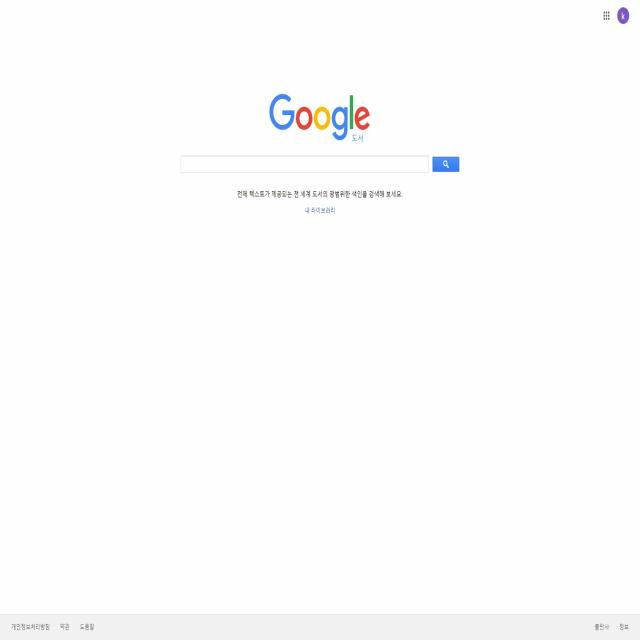menu-bar: (599, 5, 632, 27)
search: (177, 148, 462, 176)
